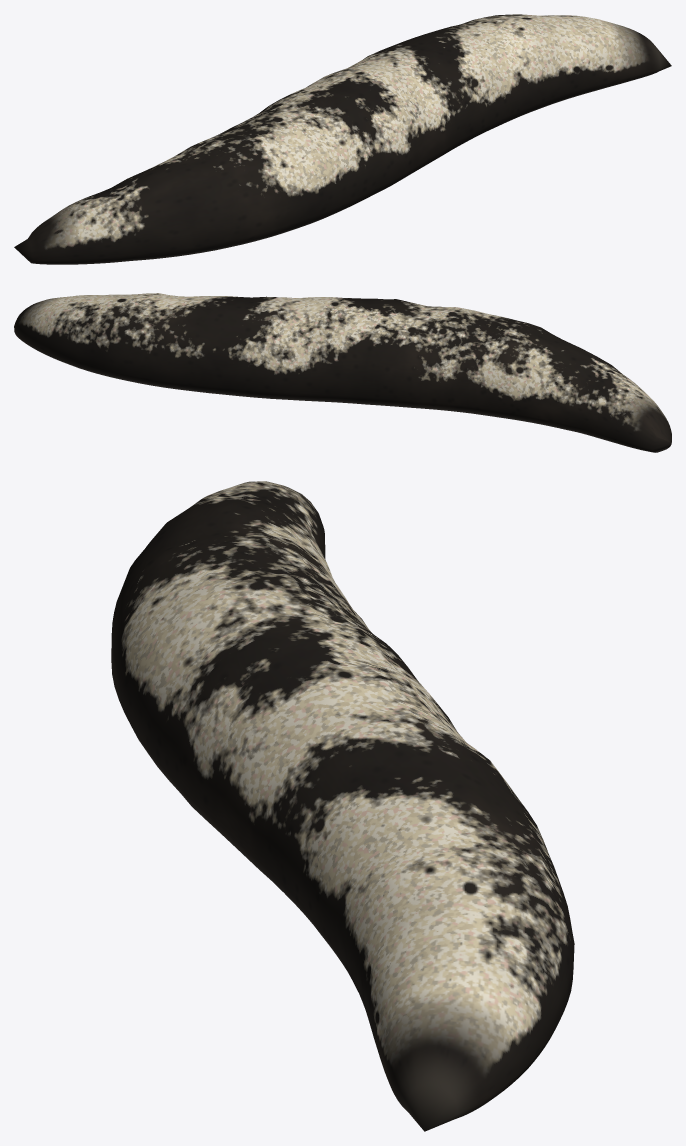
File: SeaCucumber.gltf
The picture shows the model from 3 angles, top to bottom: view 1: azimuth 30°, elevation 25°; view 2: azimuth 150°, elevation 25°; view 3: azimuth 270°, elevation 25°; orthographic projection. The views are drawn at different scales.
Visible parts, largest first — view 1: SeaCucumber; view 2: SeaCucumber; view 3: SeaCucumber.
Boxes of the visible parts, x1,y1,x2,y2 form: SeaCucumber: (14, 14, 671, 264); SeaCucumber: (14, 293, 671, 452); SeaCucumber: (111, 481, 574, 1131).
Size of the model in its own units: 0.3076 by 0.0387 by 0.0987.
1 material, 1 textured.
